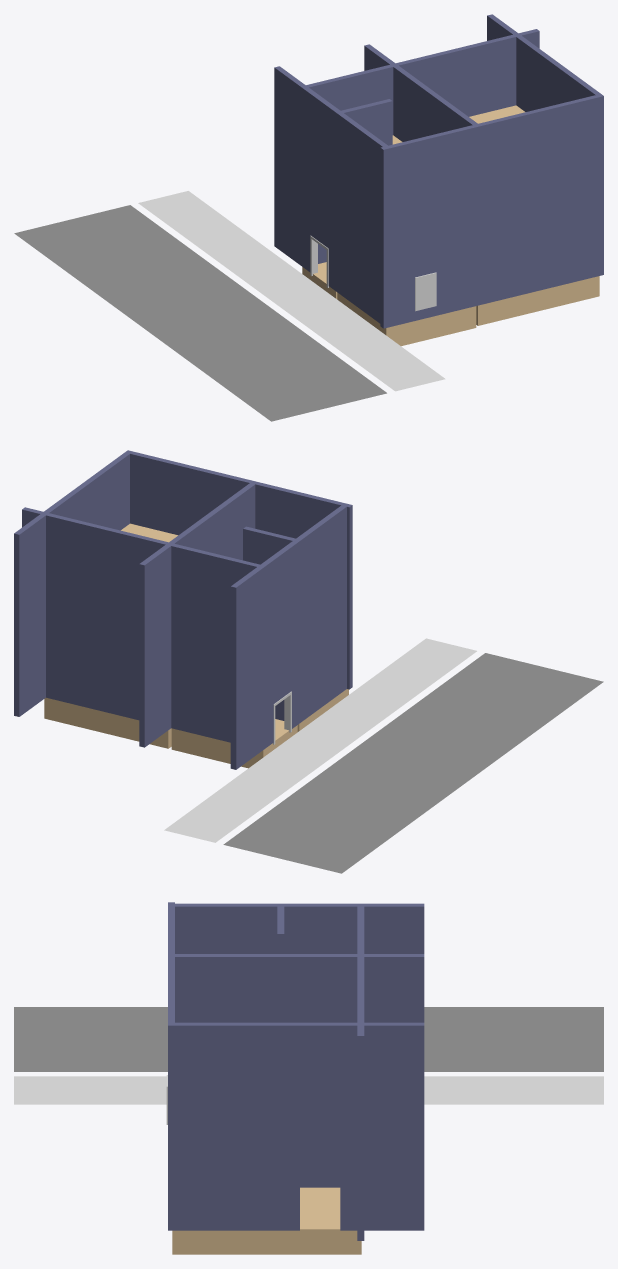
File: museu fundation14.fbx
The picture shows the model from 3 angles, top to bottom: view 1: azimuth 30°, elevation 25°; view 2: azimuth 150°, elevation 25°; view 3: azimuth 270°, elevation 25°; orthographic projection. The views are drawn at different scales.
Parts seen in each view (by area): view 1: wall03, road, wall02, sidewalk, wall01.001, wall02.001, wall02.002, chesthall, signhall, wall01, Cube; view 2: road, wall01.001, wall02, sidewalk, wall03, wall02.002, wall02.001, chesthall, entrancehall, wall01; view 3: wall02.002, road, wall02.001, wall02, sidewalk, chesthall, wall01.001, wall03.
Part boxes in pixels (x1,y1,x2,y2): wall03: (380,94,603,328); road: (14,205,386,421); wall02: (274,66,390,323); sidewalk: (138,191,445,391); wall01.001: (302,29,539,263); wall02.001: (364,44,479,141); wall02.002: (487,14,600,111); chesthall: (476,276,599,325); signhall: (337,292,476,346); wall01: (336,99,392,145); Cube: (415,272,436,311); road: (223,653,603,873); wall01.001: (22,507,264,742); wall02: (230,503,348,769); sidewalk: (164,638,476,842); wall03: (125,450,352,689); wall02.002: (14,451,132,716); wall02.001: (139,481,257,747); chesthall: (44,697,171,748); entrancehall: (171,719,297,768); wall01: (243,526,299,720); wall02.002: (169,1022,424,1230); road: (14,1007,603,1071); wall02.001: (169,954,424,1022); wall02: (169,903,424,953); sidewalk: (14,1076,603,1104); chesthall: (172,1187,361,1254); wall01.001: (357,904,364,1240); wall03: (168,902,174,1230).
Bounding box in the file's own units: 3950 × 1814 × 4209.
